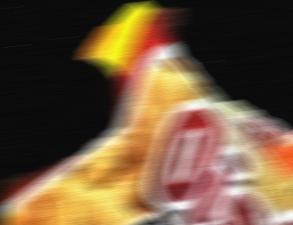oishi crackers: (0, 1, 293, 225)
